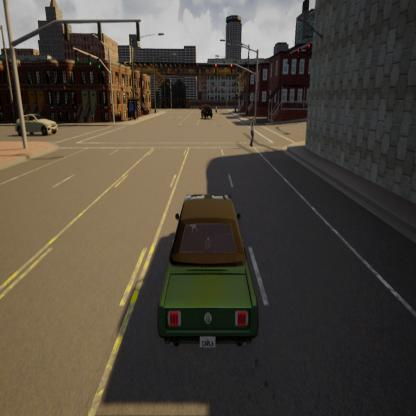Cars: (158, 186, 267, 362), (16, 110, 57, 140), (201, 104, 213, 121)
Pedestrian: (246, 114, 258, 151)
